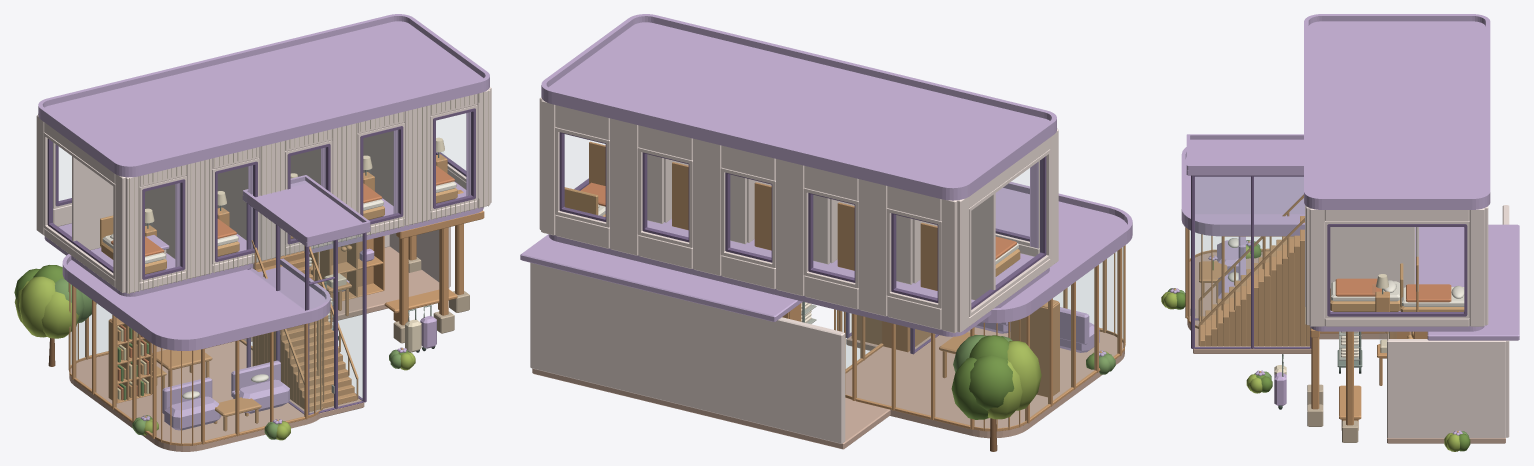
The picture shows the model from 3 angles, left to right: view 1: azimuth 30°, elevation 25°; view 2: azimuth 150°, elevation 25°; view 3: azimuth 270°, elevation 25°; orthographic projection. The views are drawn at different scales.
Visible parts, largest first — view 1: R 客房翼柔紫平屋顶, A 墙体, R 公共翼圆角平屋顶, R 客房翼圆角女儿墙, A 休息翼弧形落地窗, S 休息翼楼面, A 楼梯塔玻璃, A 圆角窗框, A 客房隔墙, A 窗角实墙, D 客房竖向肋板, S 楼梯踏步 (+30 smaller); view 2: R 客房翼柔紫平屋顶, A 后勤后墙, A 墙体, R 客房翼圆角女儿墙, A 休息翼弧形落地窗, S 休息翼楼面, A 窗角实墙, R 后勤平屋面, A 窗上墙, A 窗下墙, A 客房走廊隔墙, L 乔木 · 枝干与树冠 (+15 smaller); view 3: R 客房翼柔紫平屋顶, A 后勤侧墙, S 楼梯踏步, R 公共翼圆角平屋顶, A 楼梯塔玻璃, R 客房翼圆角女儿墙, A 墙体, A 客房隔墙, R 后勤平屋面, S 二层客房楼板, R 楼梯塔小平顶, A 圆角窗框 (+23 smaller).
Boxes of the visible parts, x1=… form: R 客房翼柔紫平屋顶: x1=38, y1=21, x2=489, y2=177; A 墙体: x1=36, y1=87, x2=491, y2=293; R 公共翼圆角平屋顶: x1=62, y1=260, x2=330, y2=350; R 客房翼圆角女儿墙: x1=38, y1=14, x2=489, y2=172; A 休息翼弧形落地窗: x1=68, y1=283, x2=324, y2=445; S 休息翼楼面: x1=69, y1=341, x2=320, y2=451; A 楼梯塔玻璃: x1=246, y1=203, x2=366, y2=415; A 圆角窗框: x1=47, y1=108, x2=475, y2=279; A 客房隔墙: x1=145, y1=131, x2=393, y2=258; A 窗角实墙: x1=43, y1=105, x2=477, y2=282; D 客房竖向肋板: x1=129, y1=90, x2=488, y2=293; S 楼梯踏步: x1=252, y1=251, x2=356, y2=411; R 客房翼柔紫平屋顶: x1=541, y1=22, x2=1056, y2=200; A 后勤后墙: x1=530, y1=262, x2=845, y2=443; A 墙体: x1=539, y1=97, x2=1058, y2=333; R 客房翼圆角女儿墙: x1=541, y1=14, x2=1056, y2=195; A 休息翼弧形落地窗: x1=834, y1=245, x2=1125, y2=431; S 休息翼楼面: x1=845, y1=327, x2=1124, y2=438; A 窗角实墙: x1=555, y1=127, x2=1050, y2=317; R 后勤平屋面: x1=520, y1=234, x2=802, y2=321; A 窗上墙: x1=555, y1=105, x2=1050, y2=221; A 窗下墙: x1=555, y1=215, x2=1050, y2=329; A 客房走廊隔墙: x1=647, y1=154, x2=995, y2=300; L 乔木 · 枝干与树冠: x1=951, y1=335, x2=1041, y2=451; R 客房翼柔紫平屋顶: x1=1304, y1=21, x2=1490, y2=209; A 后勤侧墙: x1=1387, y1=339, x2=1505, y2=438; S 楼梯踏步: x1=1199, y1=216, x2=1310, y2=346; R 公共翼圆角平屋顶: x1=1181, y1=157, x2=1304, y2=236; A 楼梯塔玻璃: x1=1190, y1=175, x2=1311, y2=348; R 客房翼圆角女儿墙: x1=1304, y1=14, x2=1490, y2=205; A 墙体: x1=1306, y1=206, x2=1488, y2=326; A 客房隔墙: x1=1330, y1=227, x2=1415, y2=288; R 后勤平屋面: x1=1427, y1=224, x2=1519, y2=340; S 二层客房楼板: x1=1310, y1=227, x2=1484, y2=331; R 楼梯塔小平顶: x1=1186, y1=139, x2=1303, y2=175; A 圆角窗框: x1=1305, y1=206, x2=1467, y2=316.
Bounding box in the file's own units: 22.37 × 12.19 × 15.95.
